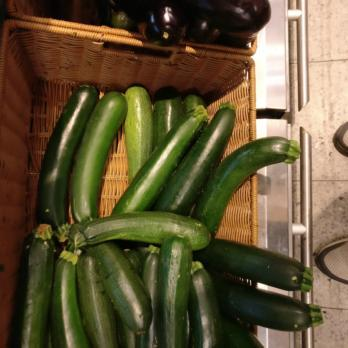Cucumber: (17, 78, 257, 348)
